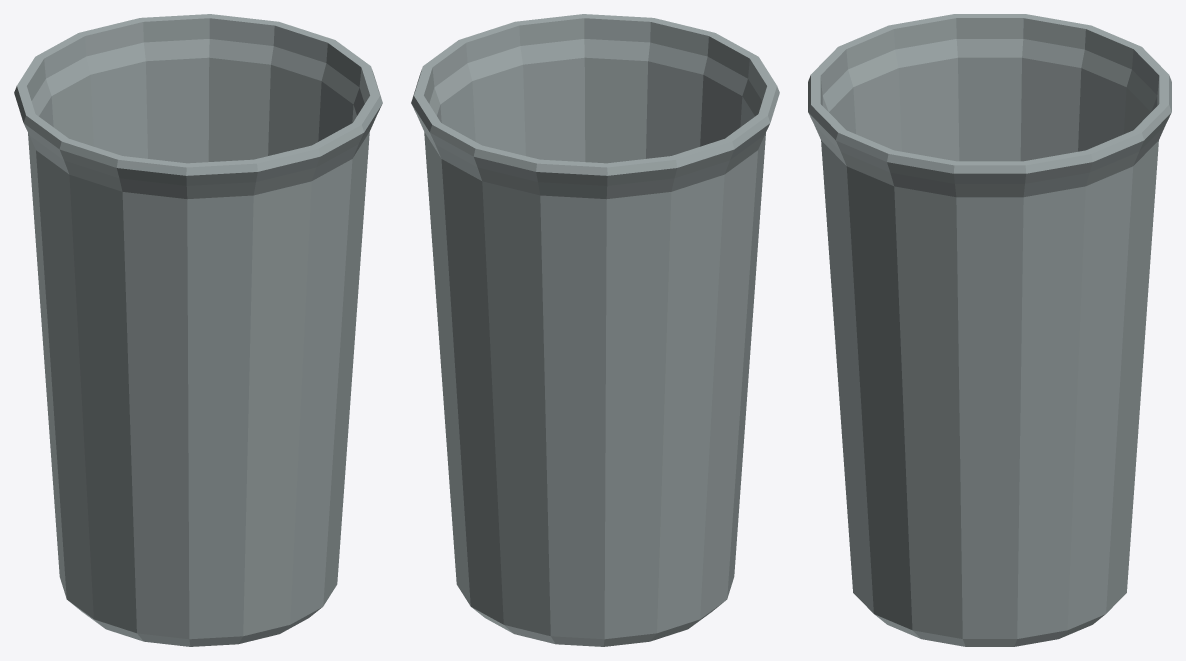
File: SM_Cook_CupClear_01.fbx
3 views of the same model, side by side, from view 1: azimuth 30°, elevation 25°; view 2: azimuth 150°, elevation 25°; view 3: azimuth 270°, elevation 25° (orthographic).
Parts seen in each view (by area): view 1: SM_Cook_CupClear_01; view 2: SM_Cook_CupClear_01; view 3: SM_Cook_CupClear_01.
Boxes of the visible parts, x1,y1,x2,y2 form: SM_Cook_CupClear_01: (14,14,382,646); SM_Cook_CupClear_01: (411,14,779,646); SM_Cook_CupClear_01: (808,14,1171,646).
Size of the model in its own units: 0.0912 by 0.14 by 0.0912.
1 material, 1 textured.
